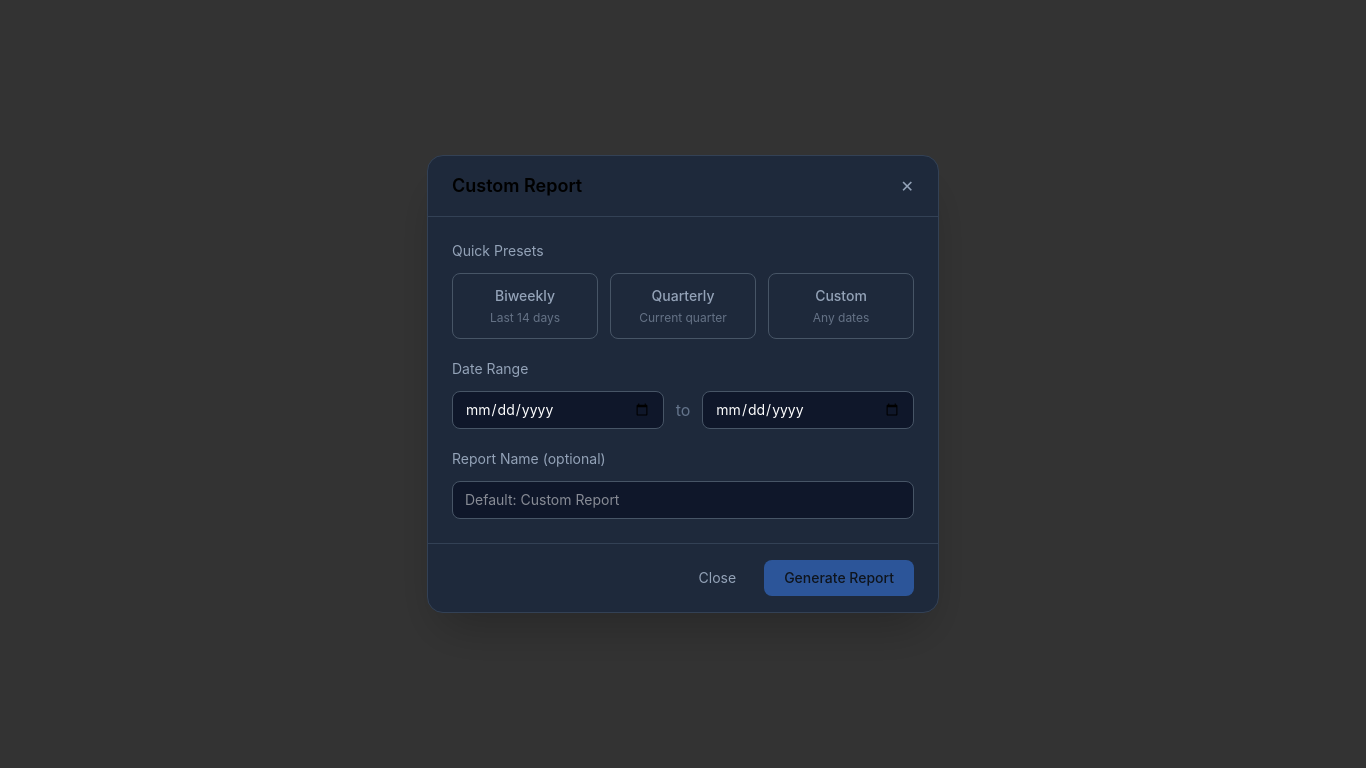
Test: CustomReportModal - REPORT-003 › shows error when end date is before start date
Type "2026-03-14" into the 1st date field at (558,410), box [452,391,664,429]
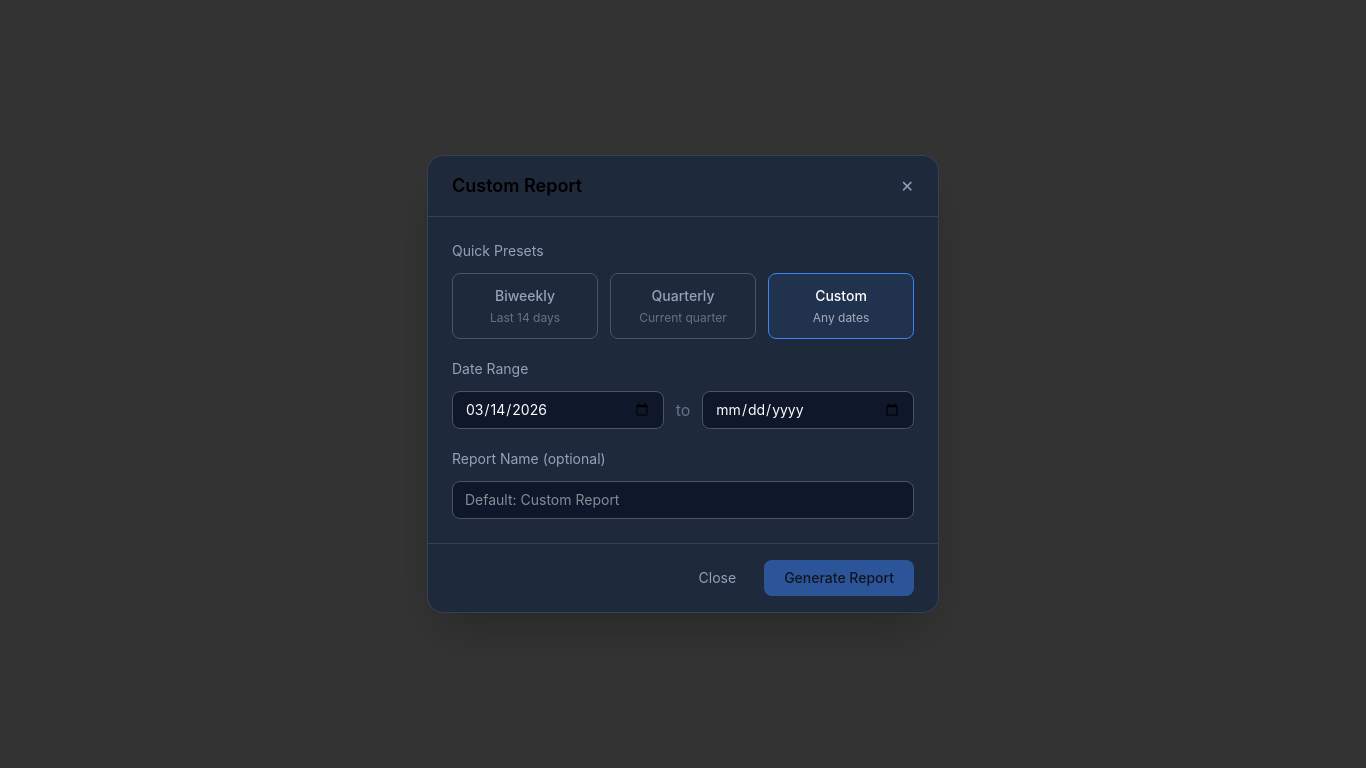
Type "2026-03-01" into the 2nd date field at (808,410), box [702,391,914,429]
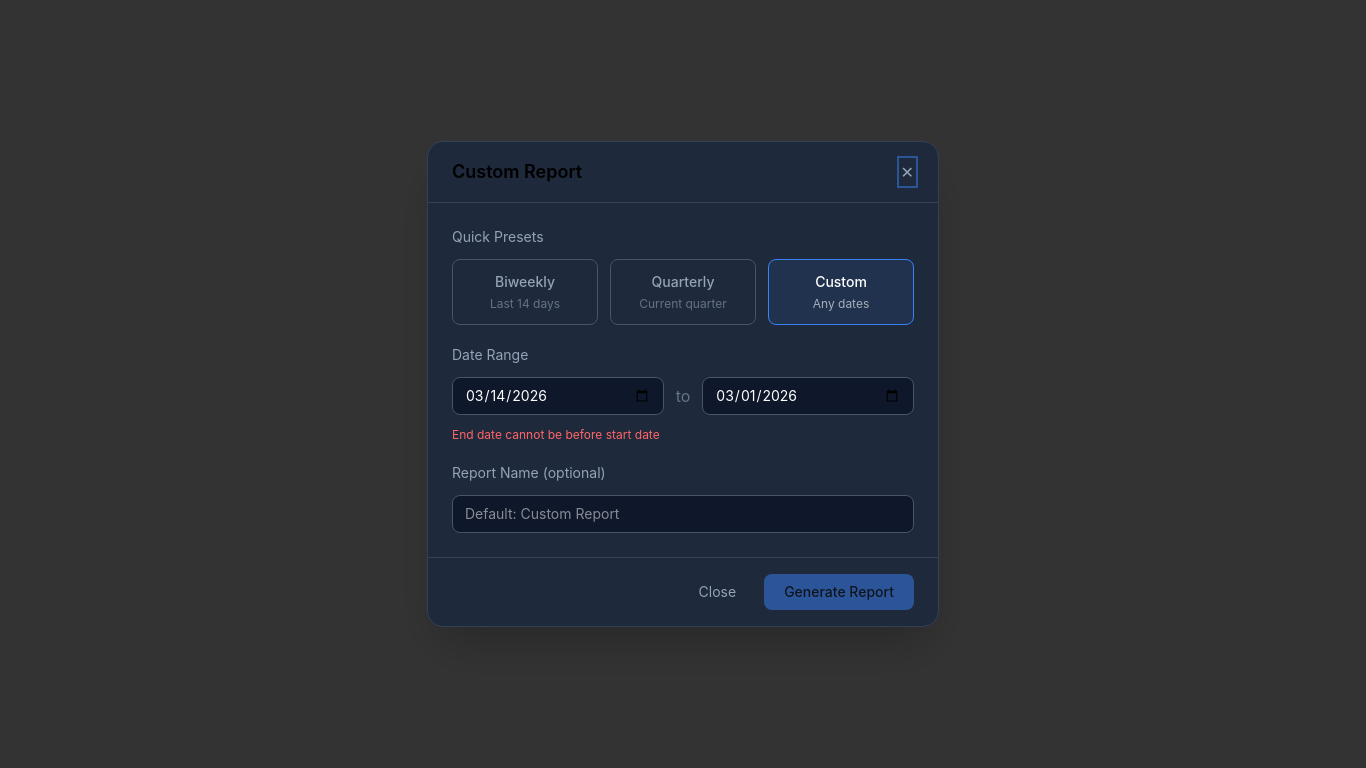
Now the text "End date cannot be before start date" is shown, box [452,427,660,442]
